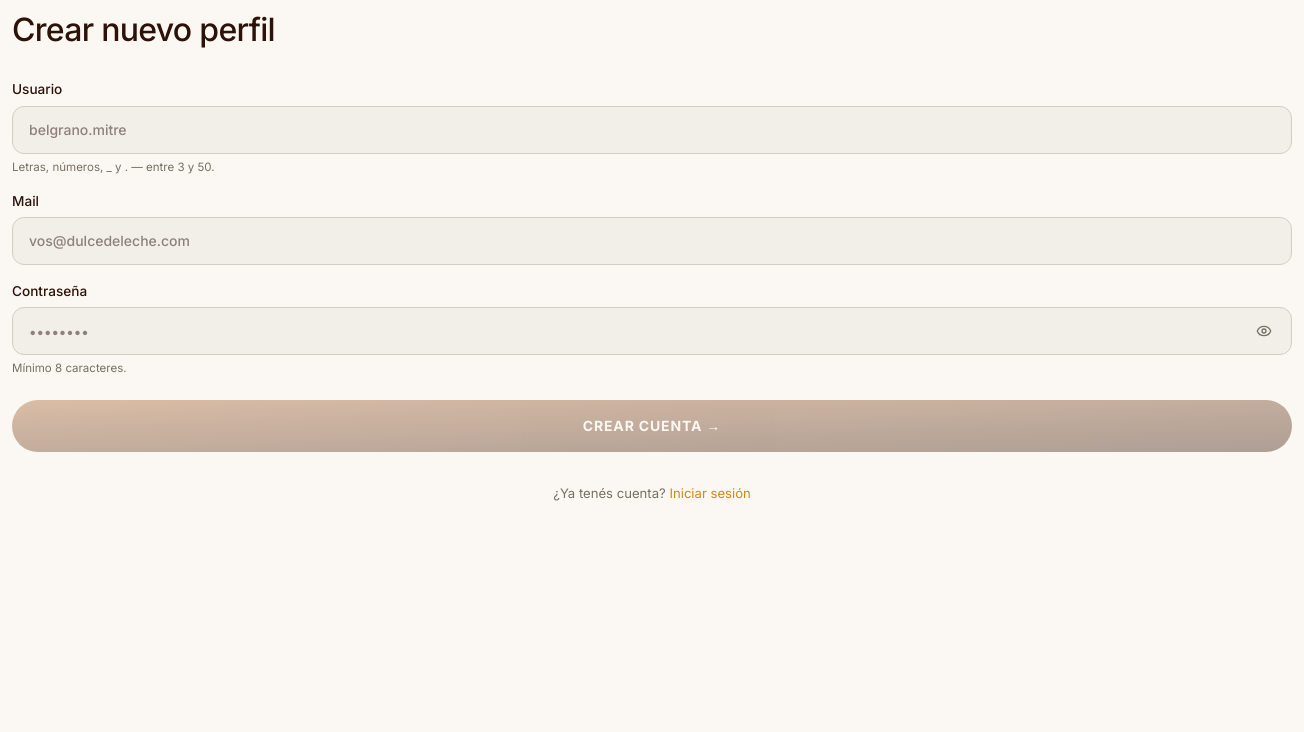
Test case: SignUpForm › shows a friendly message on 409
Type "belgrano" into the field labelled "Usuario" at (652, 130), box [12,106,1292,154]
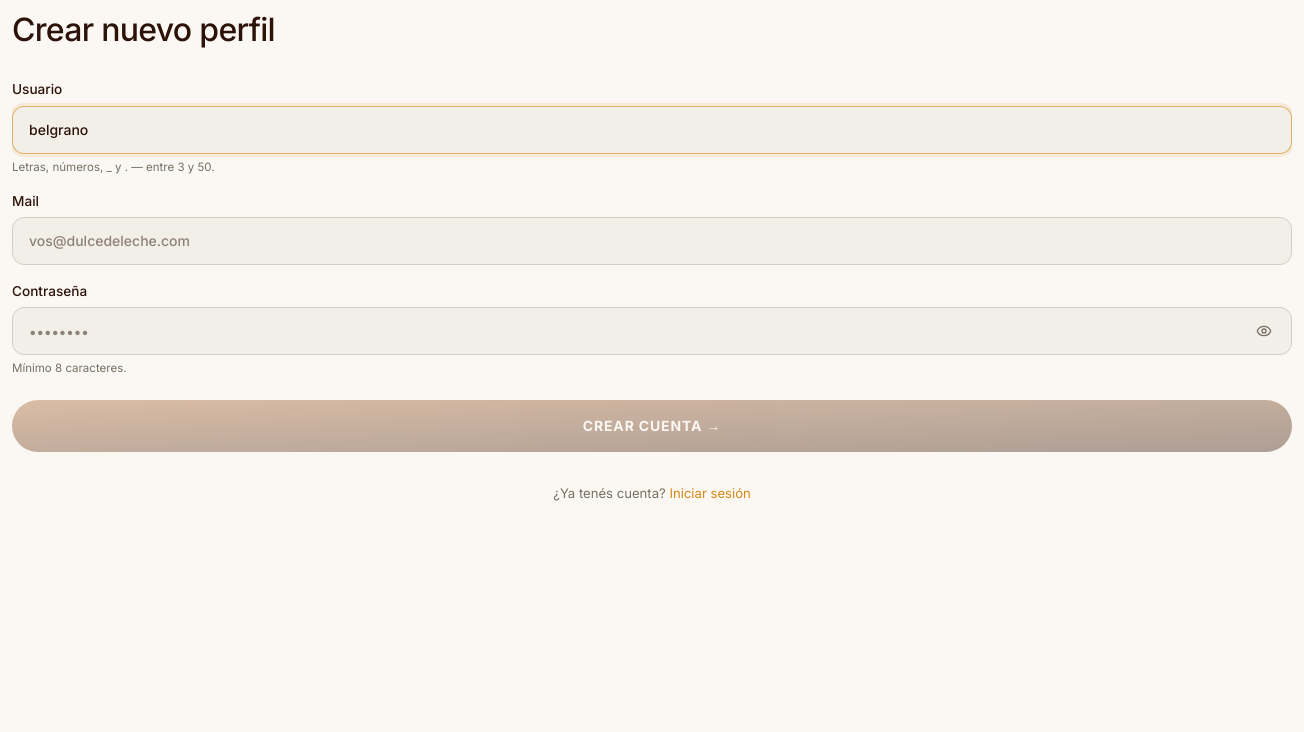
Type "a@b.com" into the field labelled "Mail" at (652, 241), box [12,217,1292,265]
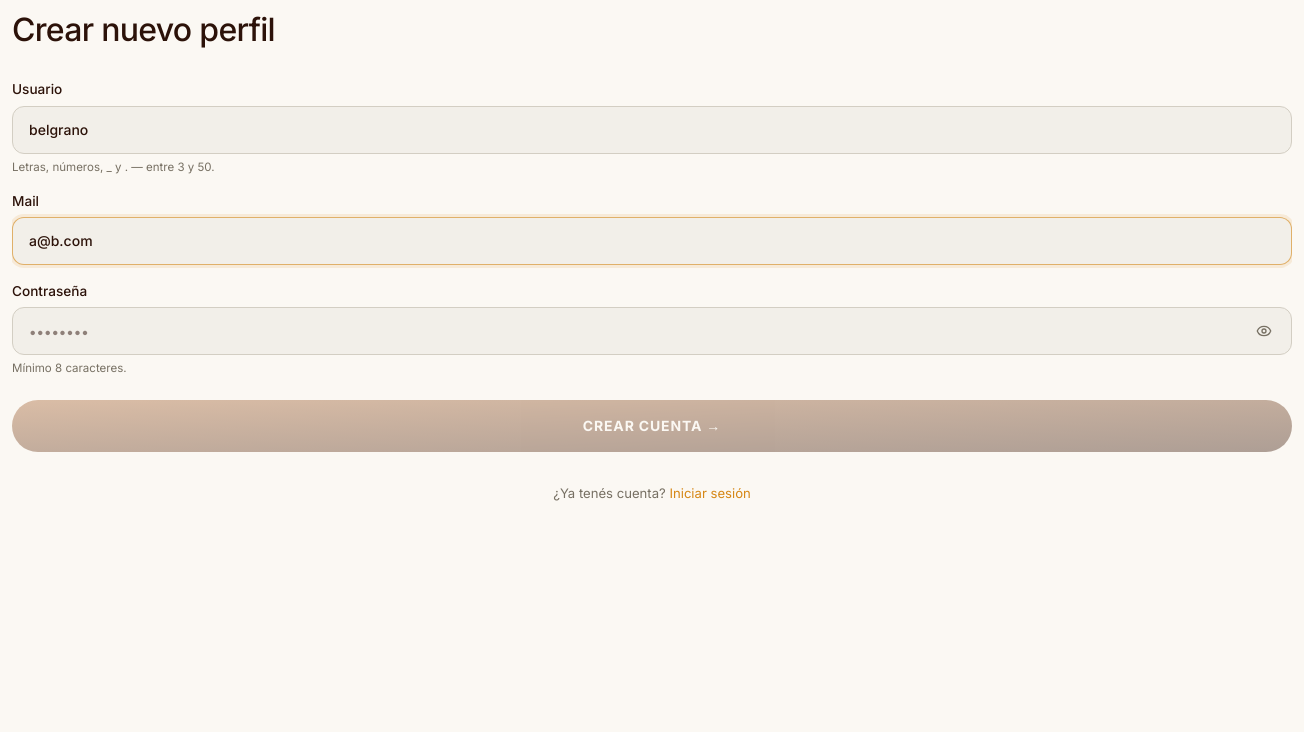
Type "longenough" into the password field labelled "Contraseña" at (652, 331), box [12,307,1292,355]
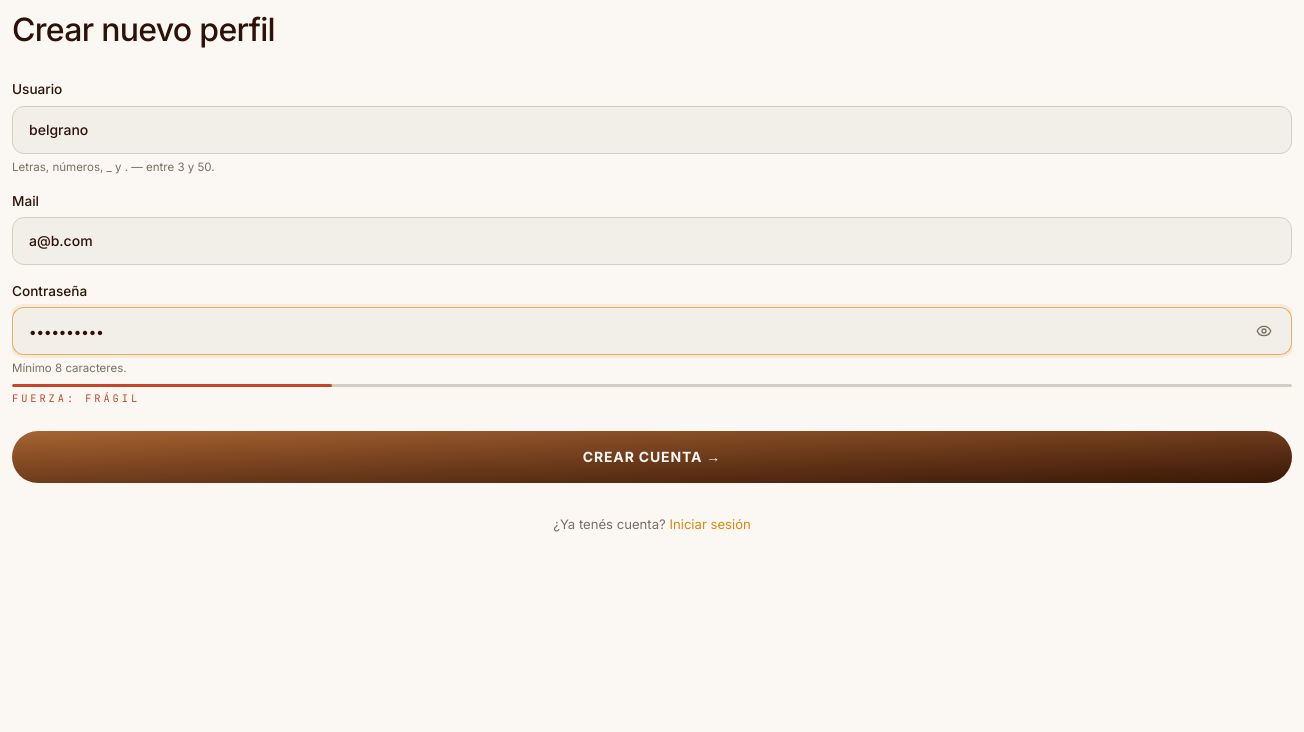
Click the button "Crear cuenta →" at (652, 457), box [12,431,1292,483]
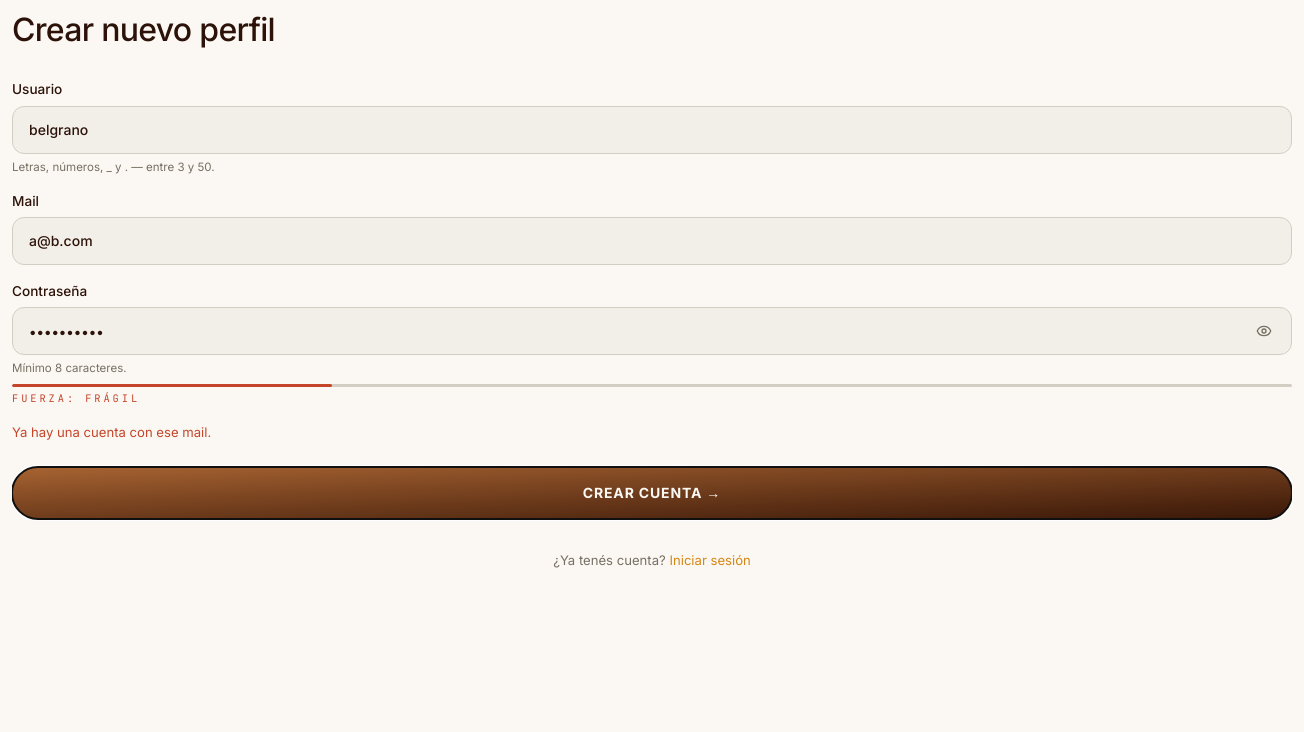
Expected: the message shows "Ya hay una cuenta", [12,424,211,440]
